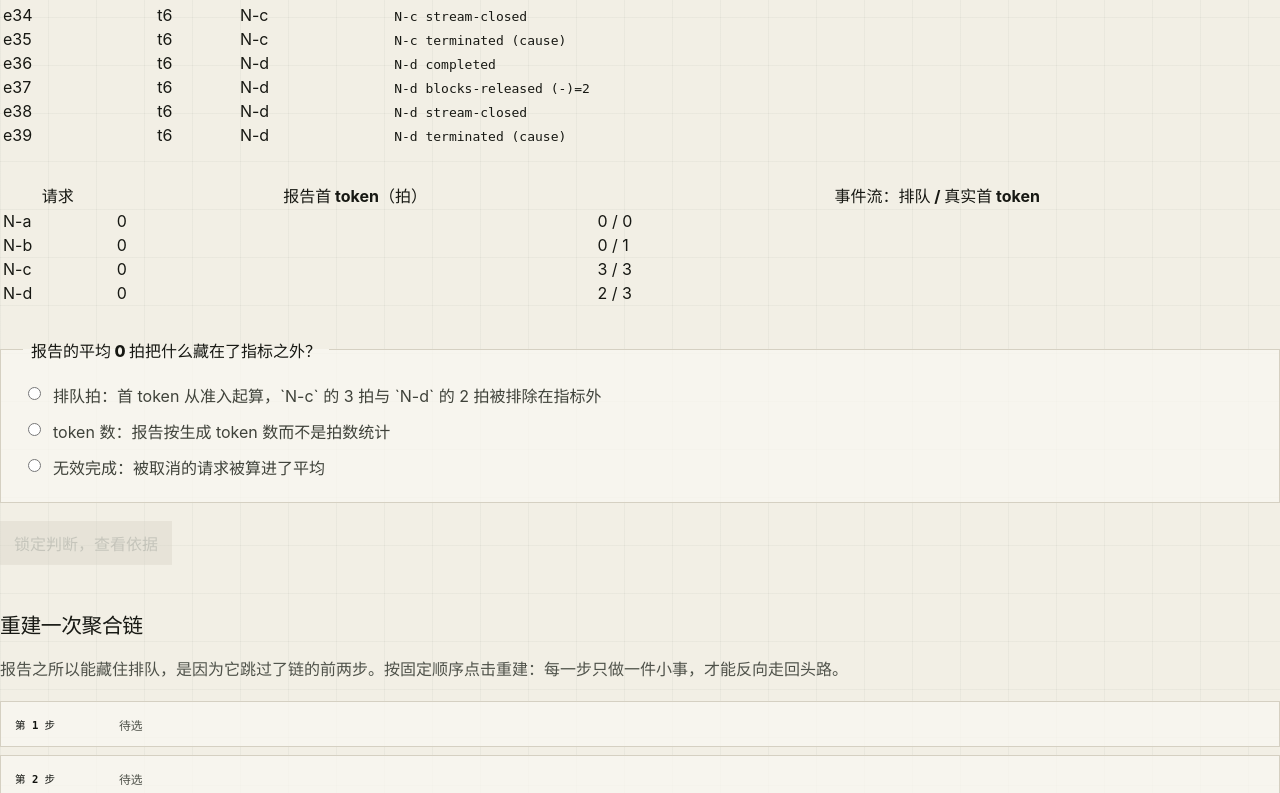
Test case: metrics report practice component › requires a locked prediction before revealing the evidence
(page scrolled)
Click the radio button labelled "排队拍：首 token 从准入起算，`N-c` 的 3 拍与 `N-d` 的 2 拍被排除在指标外". click: (34, 393)
box: [28,386,41,400]
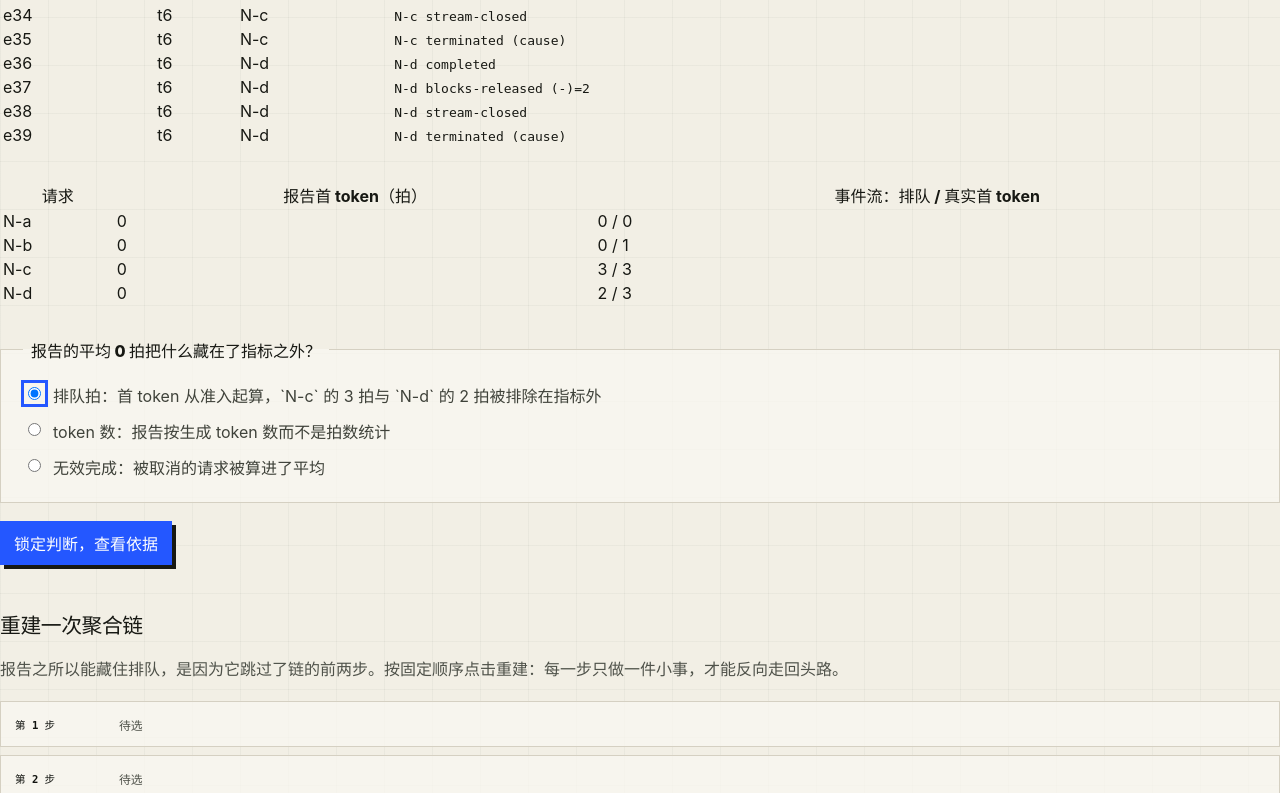
Click the button "锁定判断，查看依据". click: (86, 542)
box: [0,520,172,564]
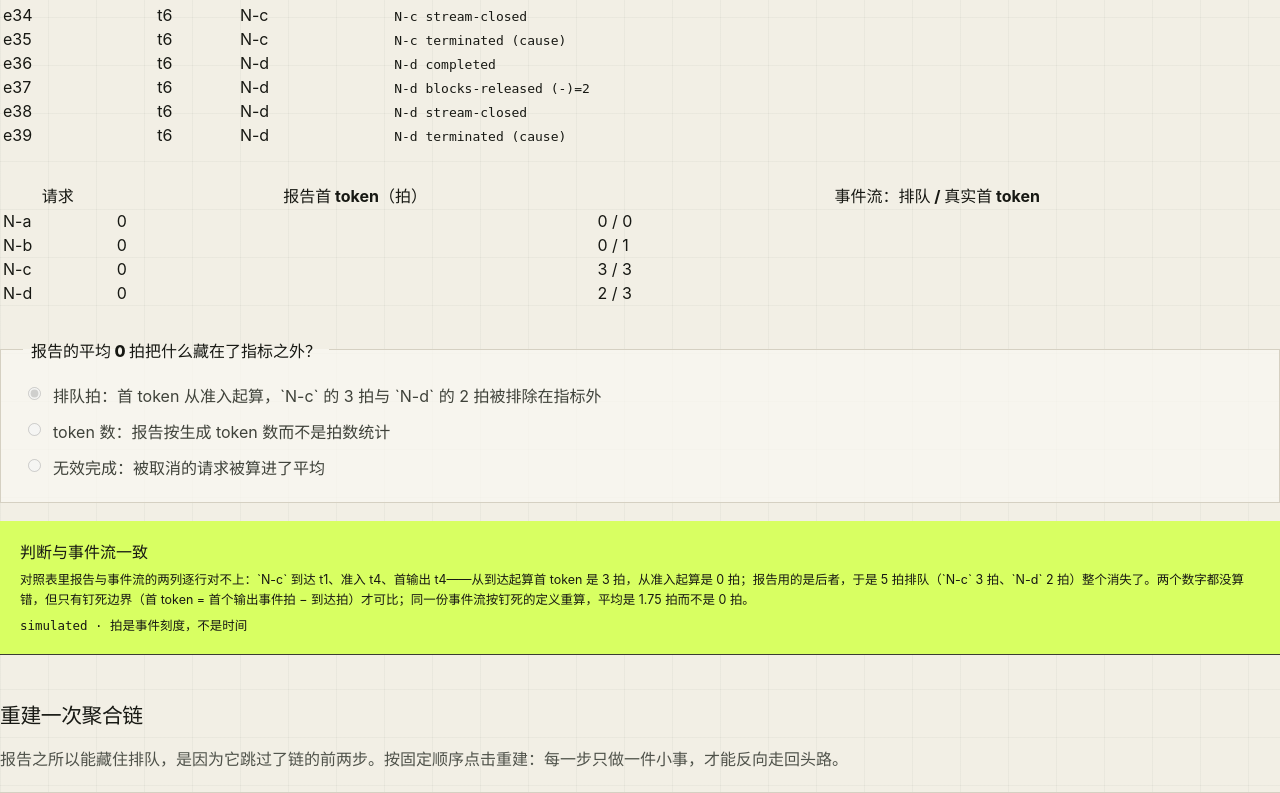
Now the text "平均是 1.75 拍而不是 0 拍" is shown, box [20,572,1244,606]
Now the text "simulated · 拍是事件刻度，不是时间" is shown, box [20,618,247,634]
